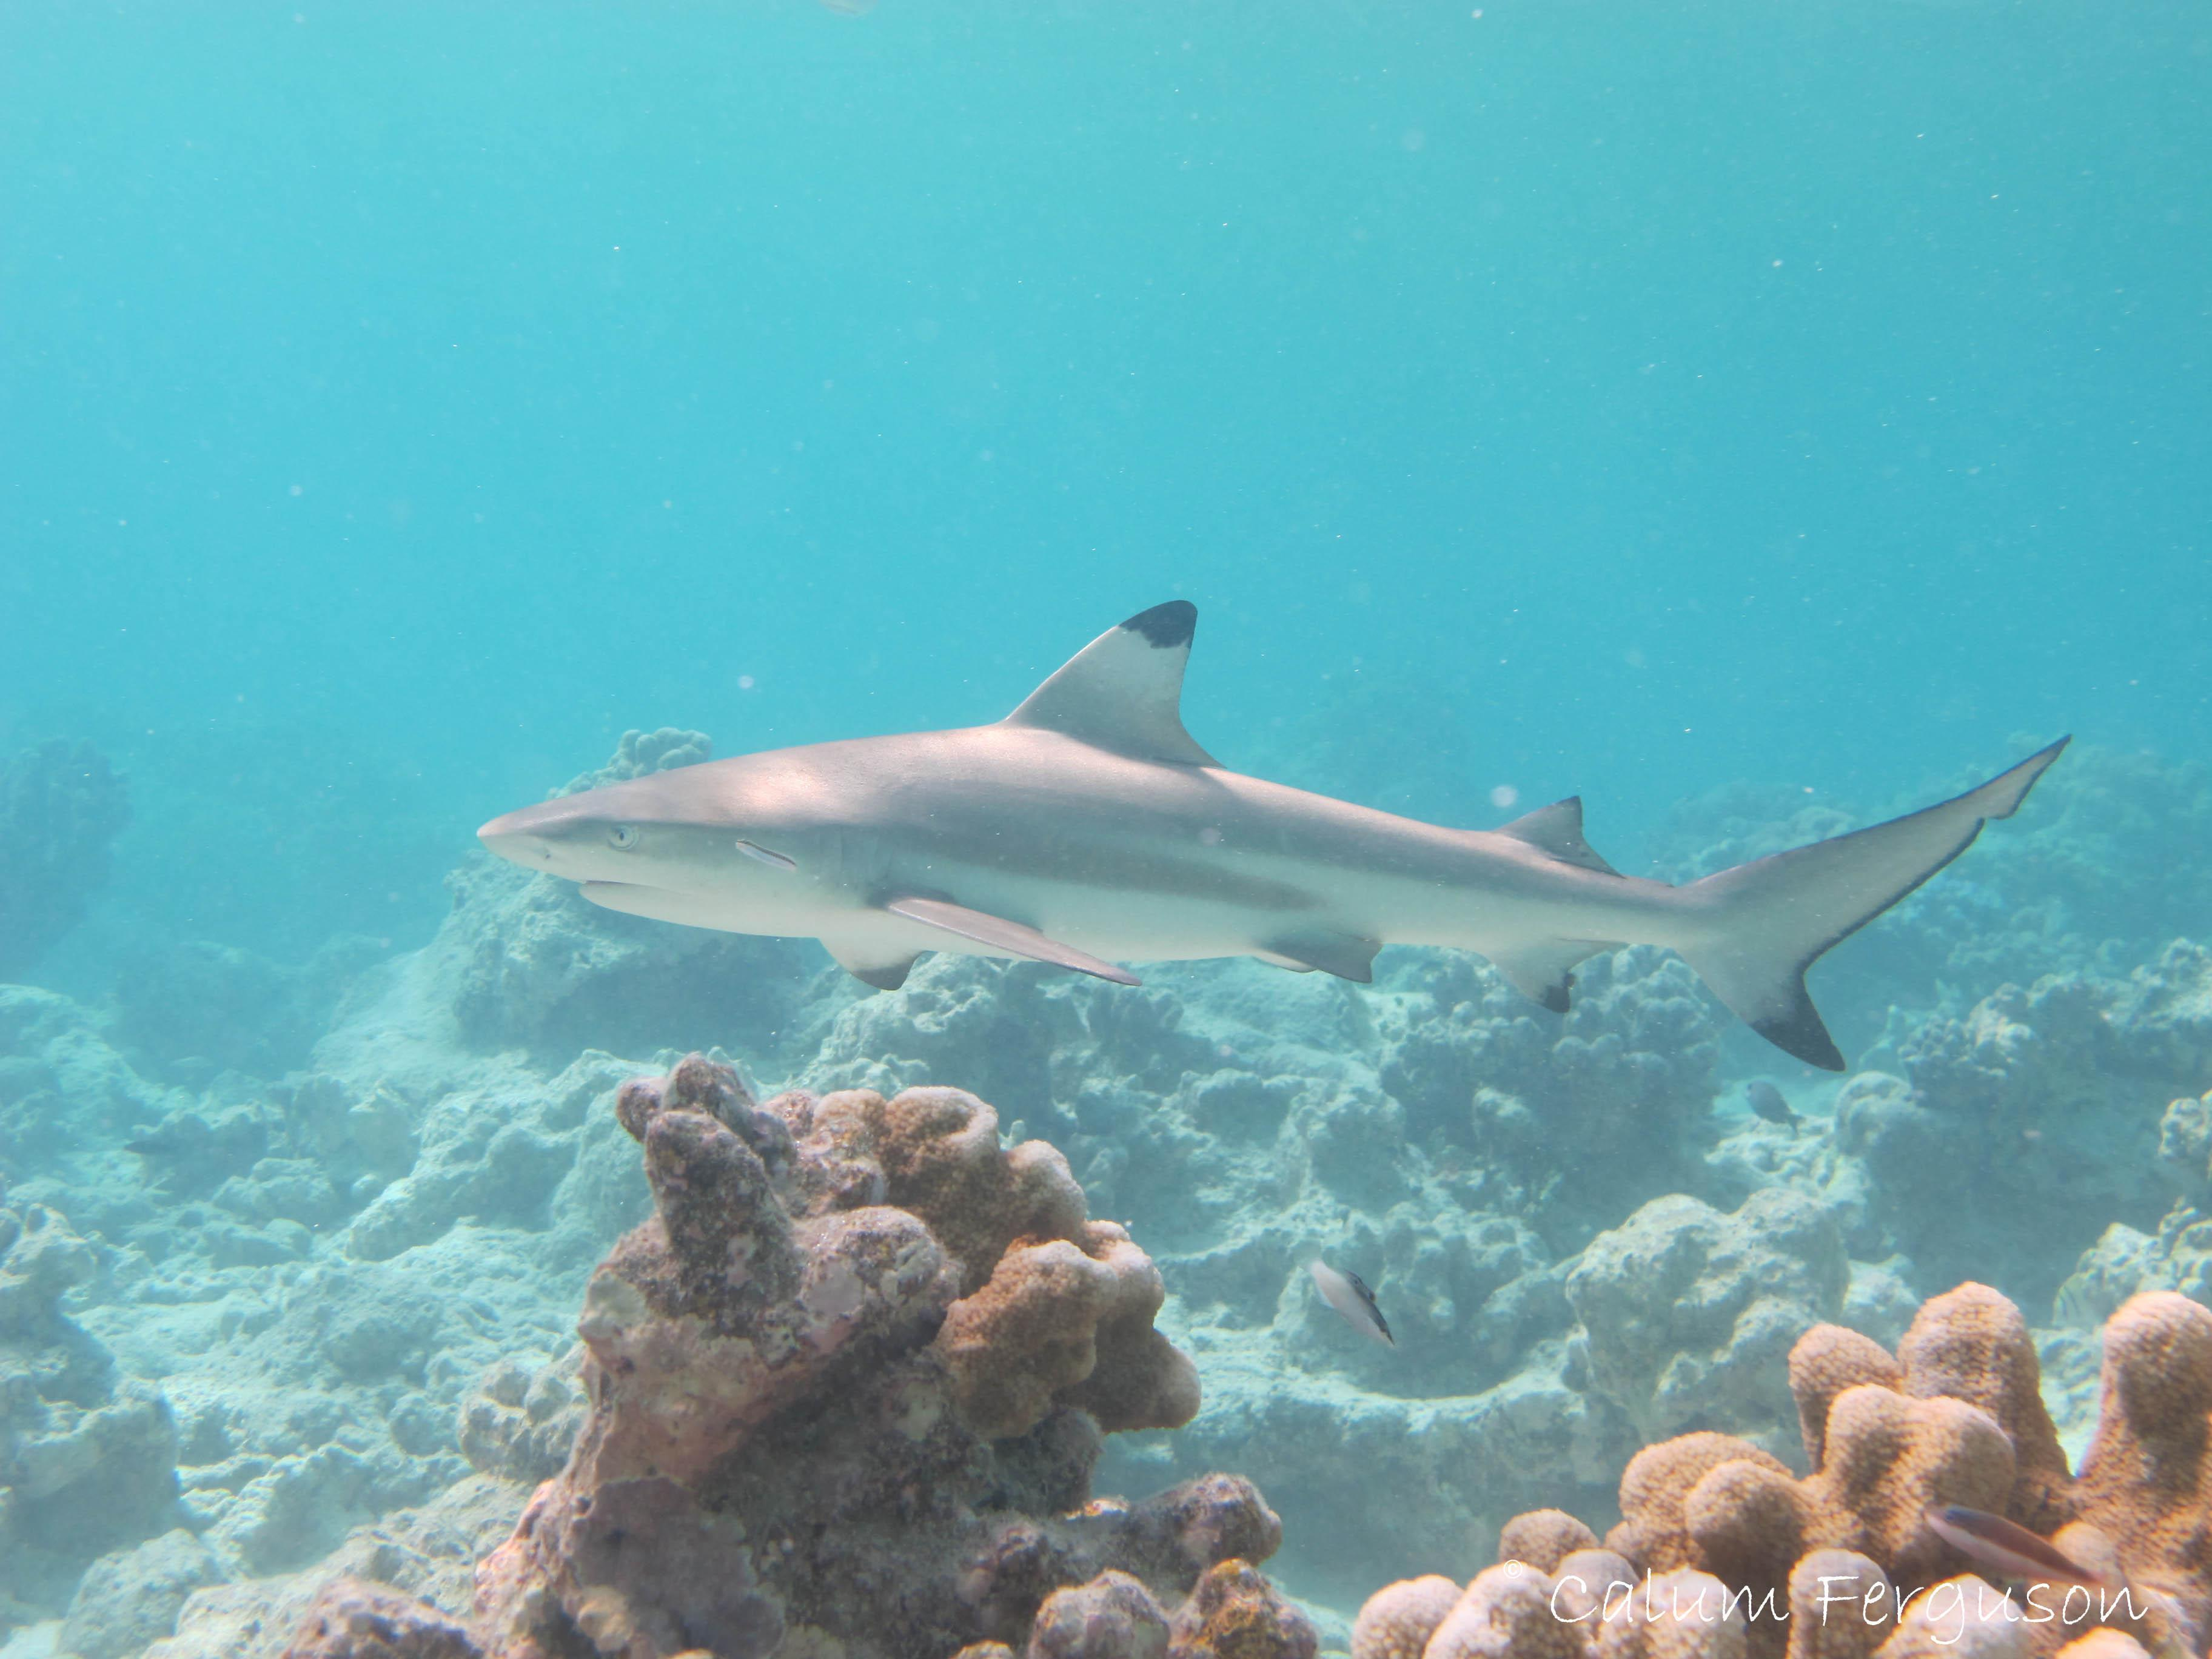Fish: (465, 589, 2076, 1086)
